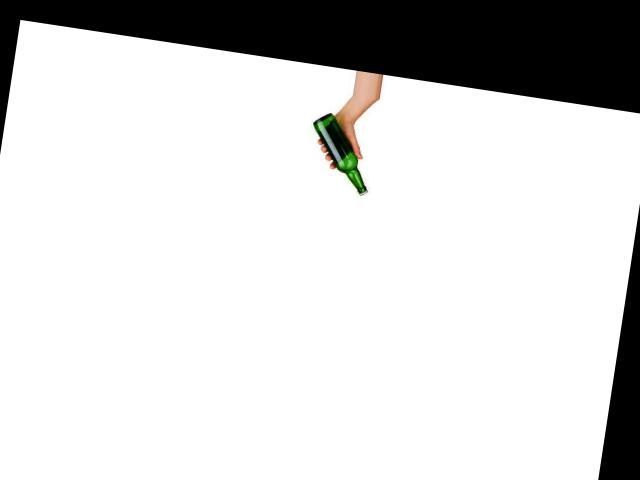beer: (305, 109, 379, 194)
